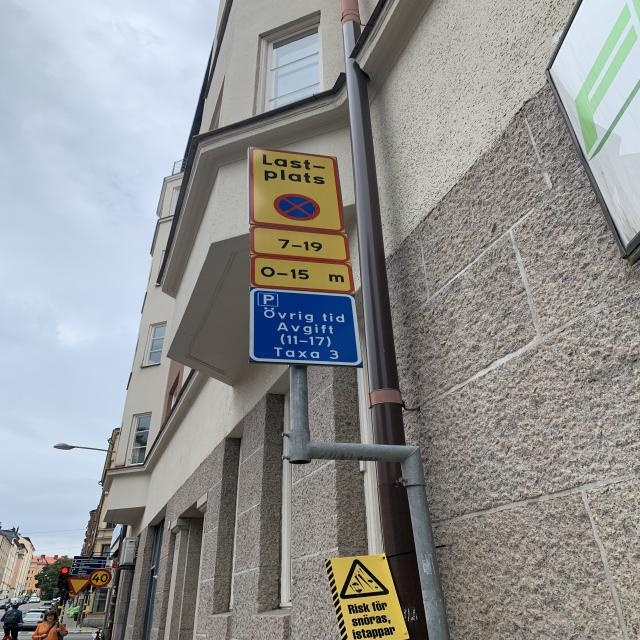lastplats: (246, 143, 352, 234)
